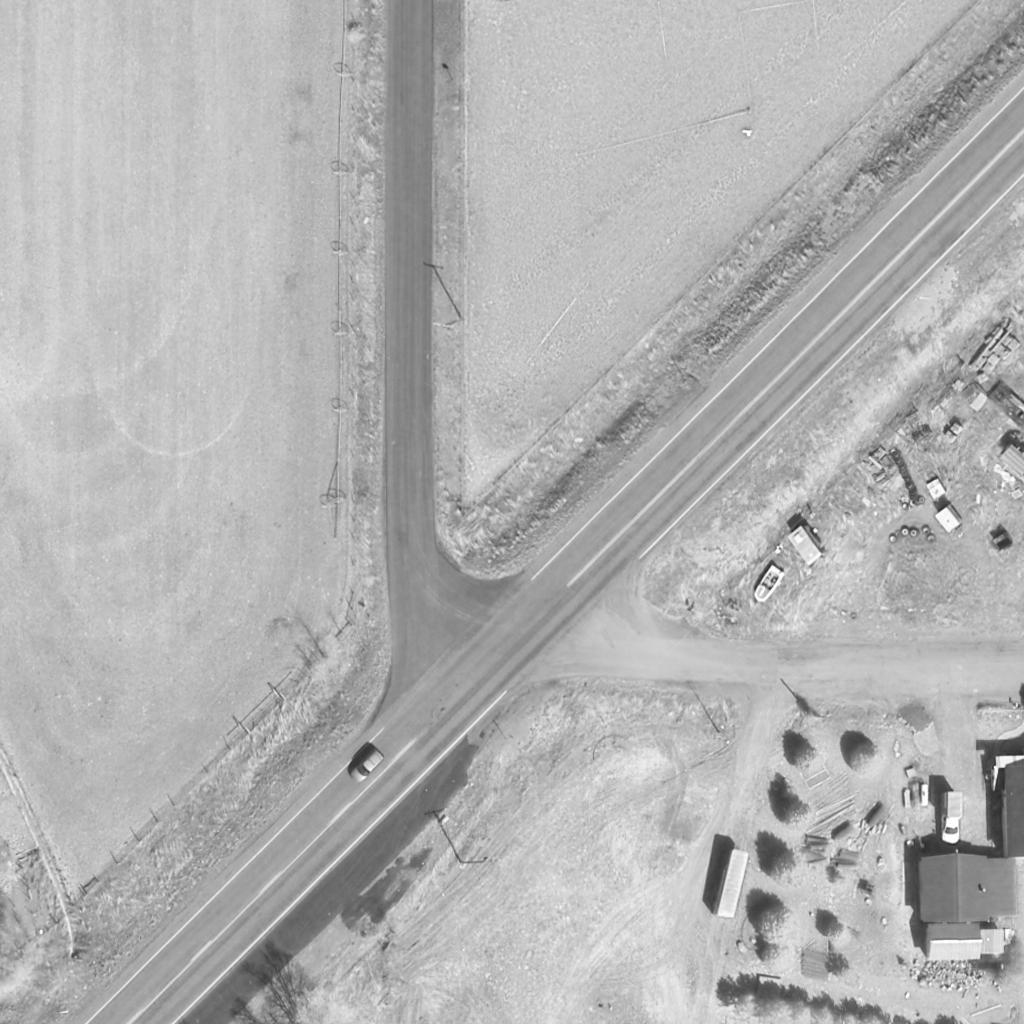vehicle: (717, 849, 749, 923), (751, 568, 787, 608), (350, 750, 386, 786), (940, 791, 962, 845)
